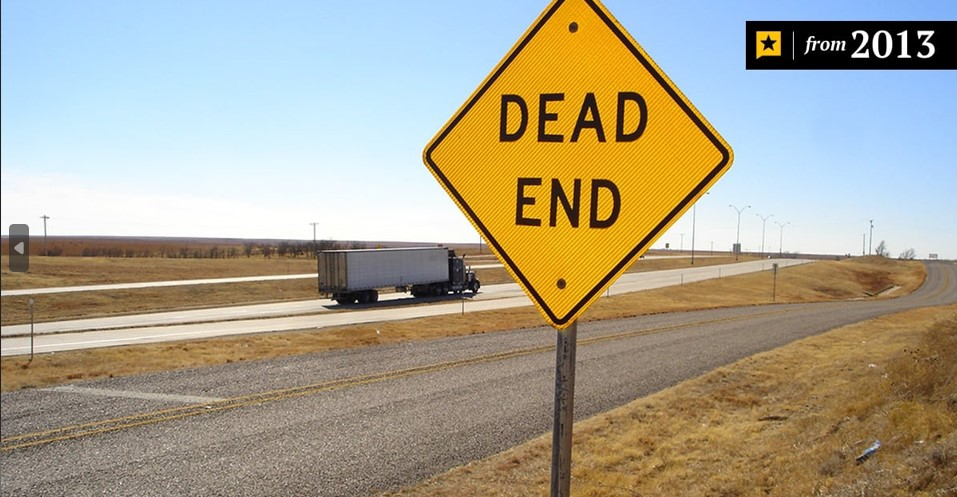Deadend: (420, 1, 735, 336)
